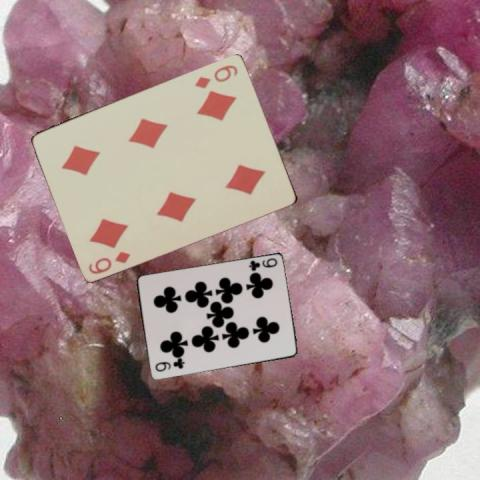6d: (192, 61, 239, 90), (85, 248, 132, 276)
9c: (245, 255, 279, 273), (152, 358, 186, 374)
